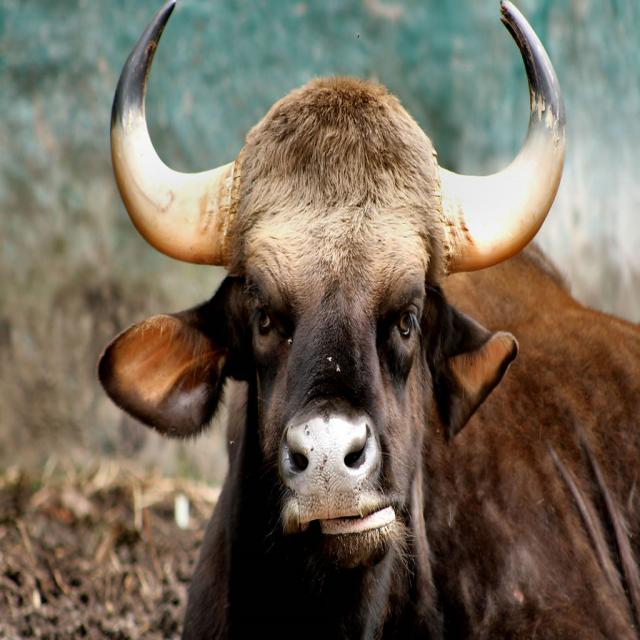Bull: (94, 0, 639, 639)
